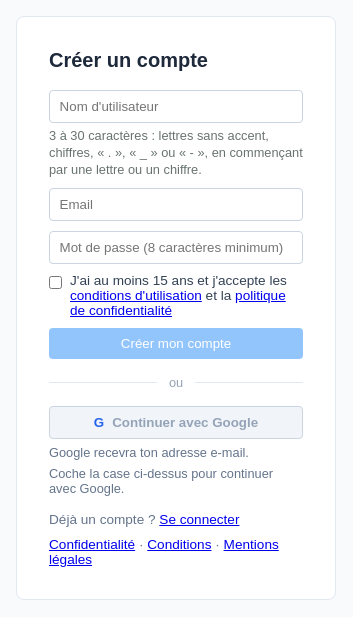
RegisterPage › n'active le bouton Google qu'une fois la case cochée, sans charger le script Google
Expected: the button "G Continuer avec Google" is disabled, x1=49 y1=406 x2=303 y2=439
Expected: the text "Google recevra ton adresse e-mail." is shown, x1=49 y1=445 x2=249 y2=460
Click the checkbox named "J'ai au moins 15 ans et j'accepte les conditions d'utilisation et la politique de confidentialité".
click(56, 282)  # box x1=49 y1=276 x2=62 y2=288
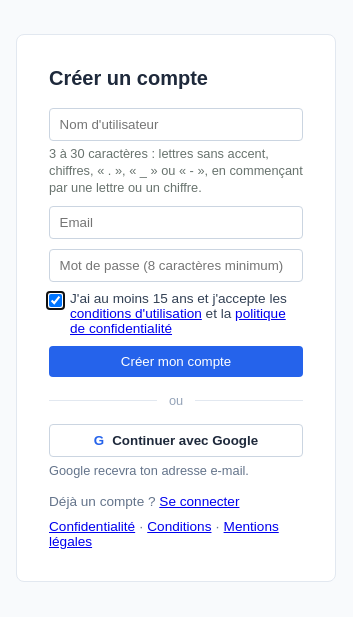
Result: the button "G Continuer avec Google" is enabled at x1=49 y1=424 x2=303 y2=457
